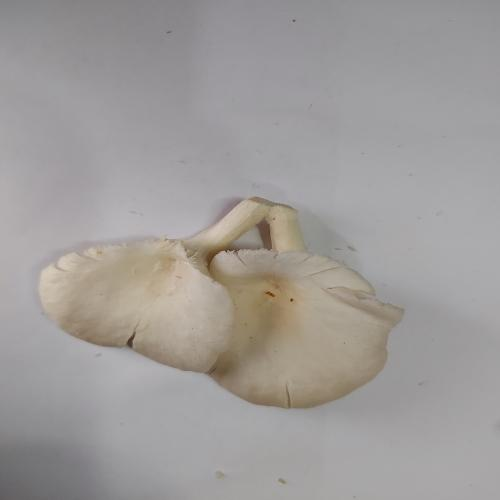Oyster Mushroom: (38, 195, 306, 374), (199, 197, 405, 409)
